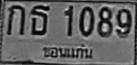0: (79, 5, 93, 35)
1: (64, 4, 72, 34)
8: (97, 6, 111, 36)
9: (115, 8, 130, 37)
A01: (6, 4, 24, 34)
A24: (30, 4, 49, 34)
KKN: (40, 41, 95, 61)
